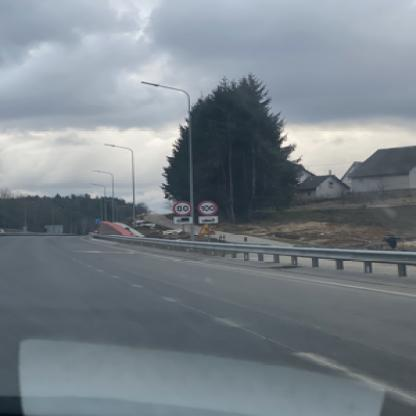speedlimit: (195, 200, 215, 214), (171, 200, 190, 214)
